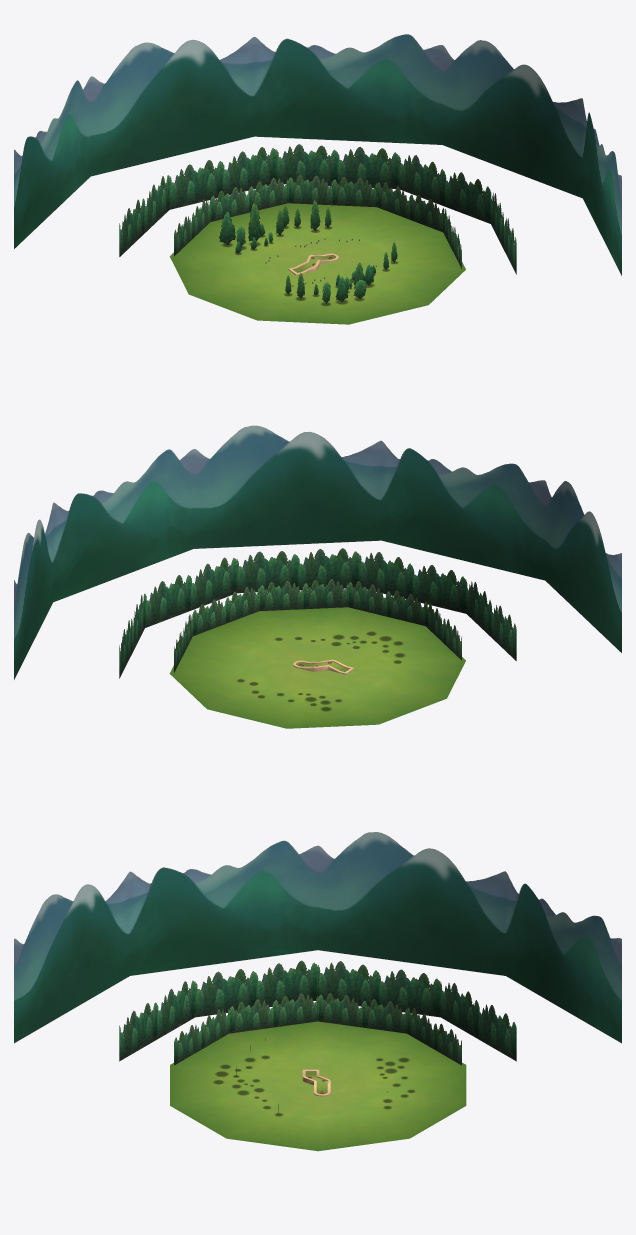
Rendered from hole4.glb.
The picture shows the model from 3 angles, top to bottom: view 1: azimuth 30°, elevation 25°; view 2: azimuth 150°, elevation 25°; view 3: azimuth 270°, elevation 25°; orthographic projection. The views are drawn at different scales.
Visible parts, largest first — view 1: background1, grass_base, background3, background2; view 2: background1, grass_base, background3, background2; view 3: background1, grass_base, background3, background2.
Part boxes in pixels (box(x1,y1,x2,y2)): background1: box(14, 34, 621, 275); grass_base: box(169, 203, 465, 324); background3: box(119, 144, 516, 274); background2: box(174, 175, 461, 268); background1: box(14, 425, 621, 679); grass_base: box(169, 607, 465, 728); background3: box(119, 548, 516, 678); background2: box(174, 579, 461, 672); background1: box(14, 832, 621, 1043); grass_base: box(170, 1021, 466, 1151); background3: box(119, 960, 516, 1061); background2: box(174, 993, 461, 1065).
Size of what is drawn, in the model's own units: 347 by 78.81 by 330.
10 materials, 9 textured.
